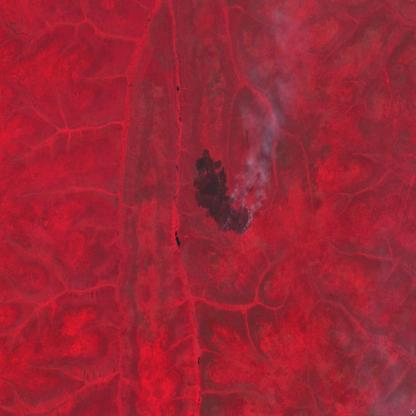fire: (214, 186, 255, 250)
